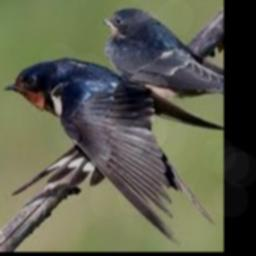Swallow: (4, 58, 224, 243), (105, 7, 224, 92)
